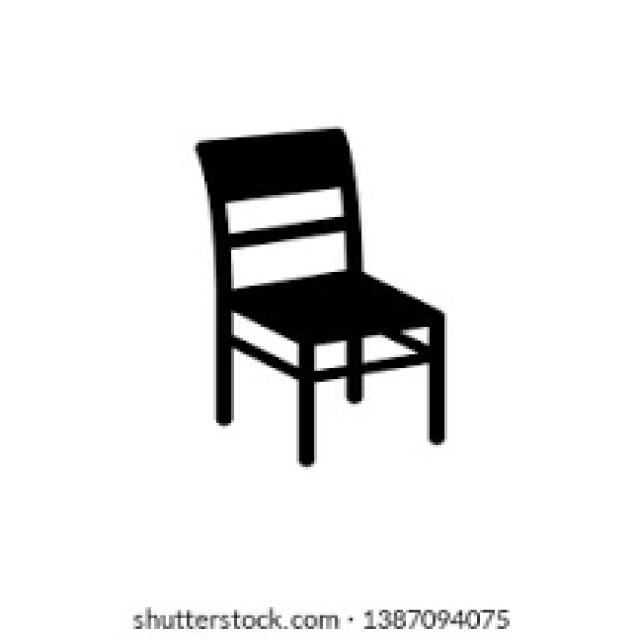obstacle: (168, 97, 495, 504)
